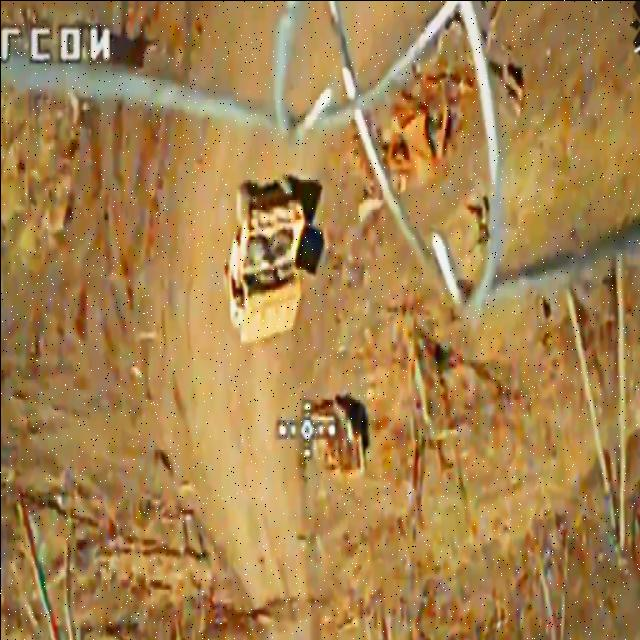CAR: (222, 174, 304, 354)
